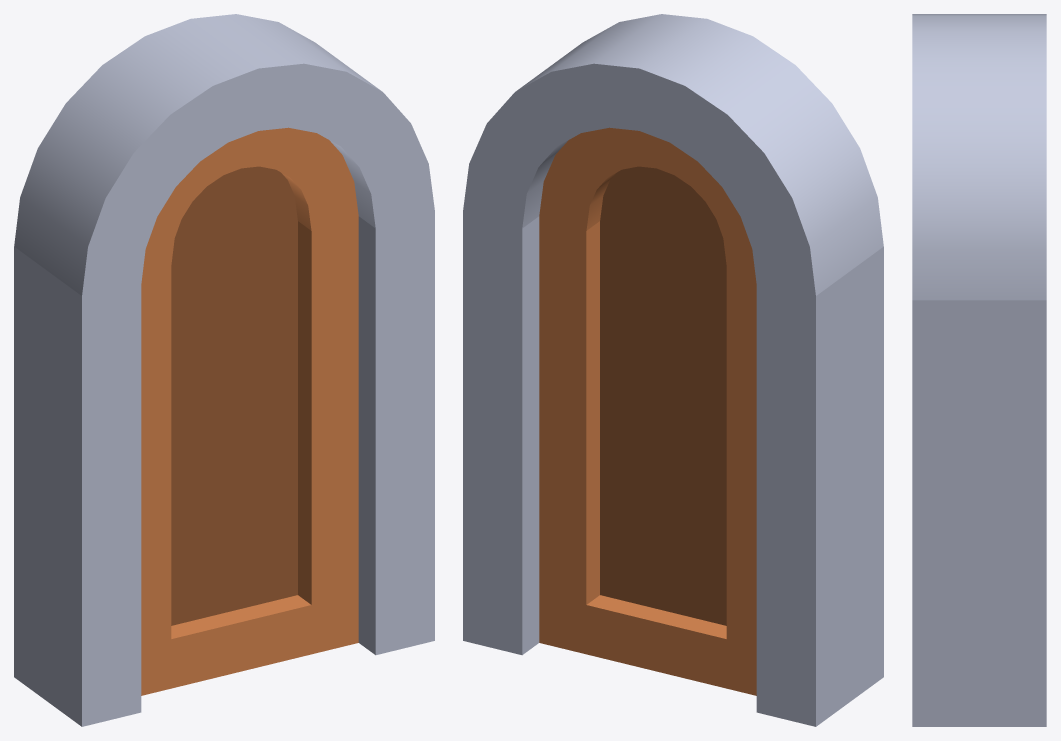
The model's file is doorClosed.glb.
3 views of the same model, side by side, from view 1: azimuth 30°, elevation 25°; view 2: azimuth 150°, elevation 25°; view 3: azimuth 270°, elevation 25° (orthographic).
Visible parts, largest first — view 1: doorClosed; view 2: doorClosed; view 3: doorClosed.
Boxes of the visible parts, <box> form: doorClosed: <box>14,14,434,726</box>; doorClosed: <box>463,14,883,726</box>; doorClosed: <box>912,14,1046,726</box>.
Size of the model in its own units: 0.6 by 1 by 0.2.
